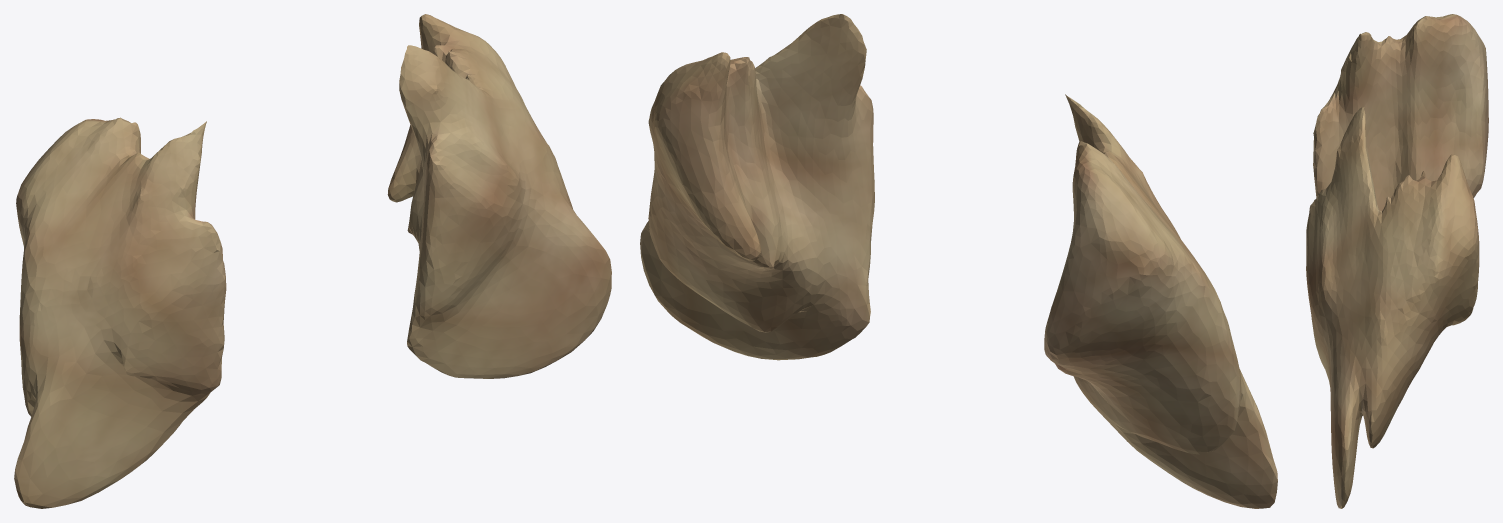
The model's file is Cerebellar_Peduncles.obj.
3 views of the same model, side by side, from view 1: azimuth 30°, elevation 25°; view 2: azimuth 150°, elevation 25°; view 3: azimuth 270°, elevation 25° (orthographic). The views are drawn at different scales.
Visible parts, largest first — view 1: Cerebellar_Peduncles; view 2: Cerebellar_Peduncles; view 3: Cerebellar_Peduncles.
Part boxes in pixels (x1,y1,x2,y2): Cerebellar_Peduncles: (14, 14, 611, 508); Cerebellar_Peduncles: (640, 14, 1277, 508); Cerebellar_Peduncles: (1306, 14, 1488, 508).
Bounding box in the file's own units: 174 × 104 × 47.2.
1 material, 1 textured.
